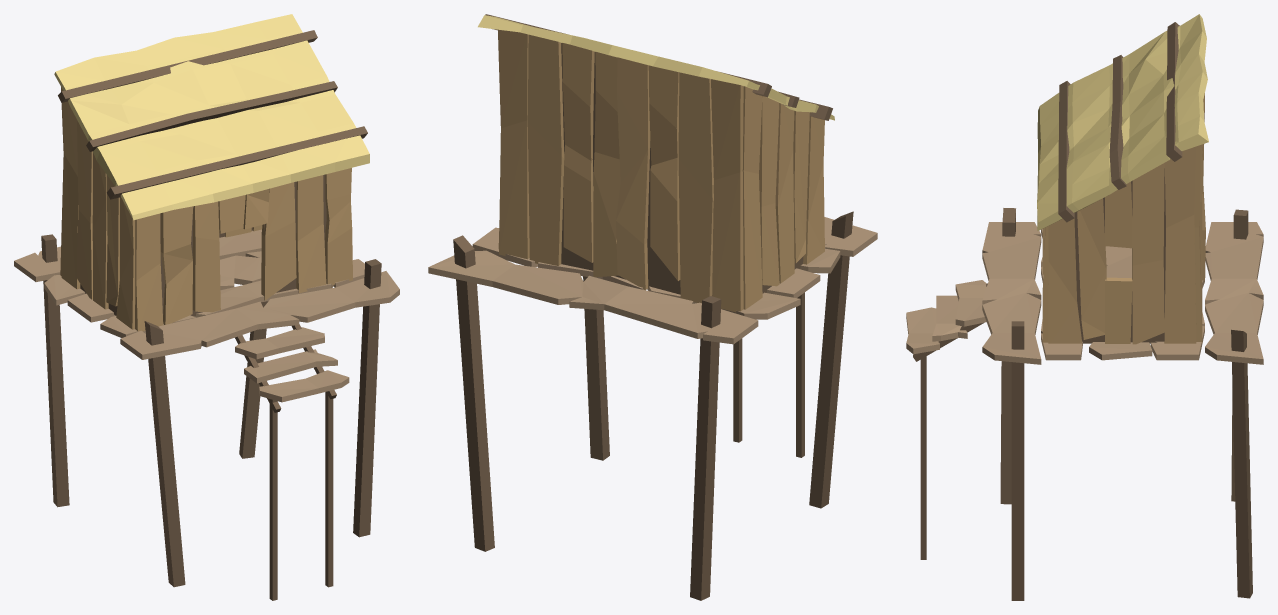
Rendered from Hut_3.fbx.
3 views of the same model, side by side, from view 1: azimuth 30°, elevation 25°; view 2: azimuth 150°, elevation 25°; view 3: azimuth 270°, elevation 25° (orthographic). The views are drawn at different scales.
Parts seen in each view (by area): view 1: Hut_3, Platform_5, Stairs_5; view 2: Hut_3, Platform_5, Stairs_5; view 3: Hut_3, Platform_5, Stairs_5.
Part boxes in pixels (x1=…): Hut_3: x1=54, y1=14, x2=369, y2=331; Platform_5: x1=14, y1=229, x2=399, y2=587; Stairs_5: x1=235, y1=324, x2=349, y2=600; Hut_3: x1=478, y1=14, x2=834, y2=312; Platform_5: x1=428, y1=211, x2=877, y2=600; Stairs_5: x1=733, y1=292, x2=804, y2=457; Hut_3: x1=1037, y1=14, x2=1208, y2=344; Platform_5: x1=982, y1=208, x2=1263, y2=600; Stairs_5: x1=906, y1=280, x2=987, y2=559.
Bounding box in the file's own units: 440 × 690 × 470.
Materials: 1 (1 with a texture image).
